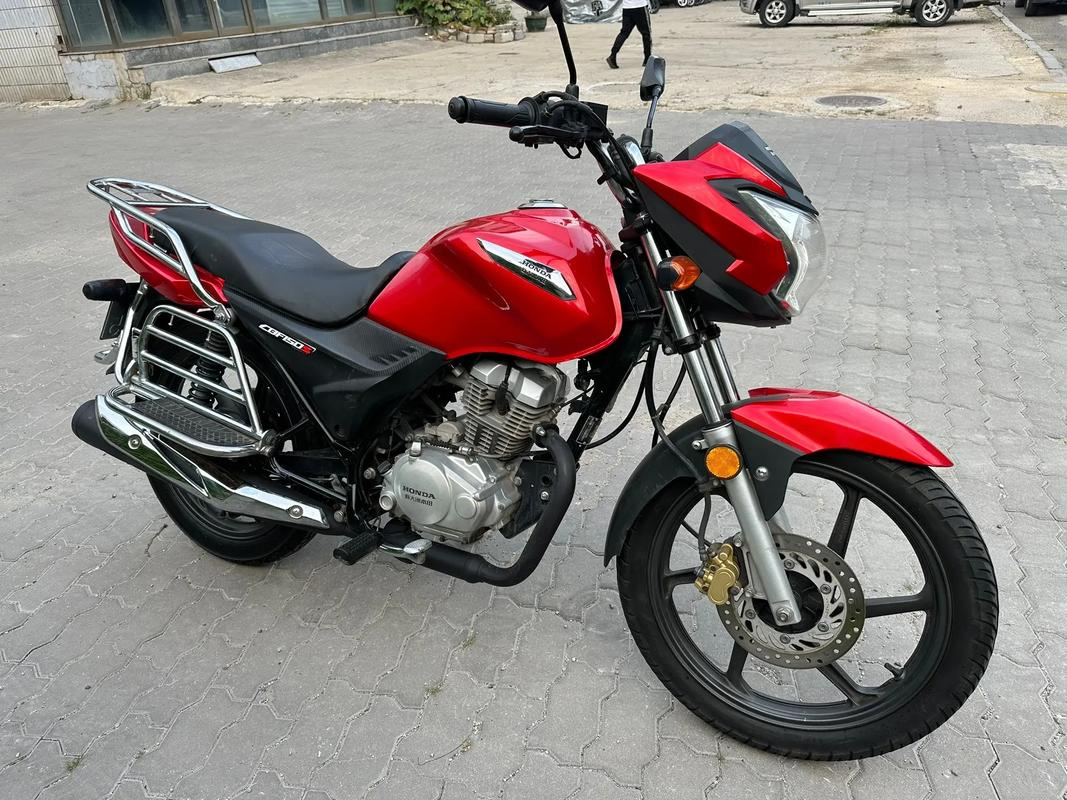摩托车: (61, 95, 1024, 777)
